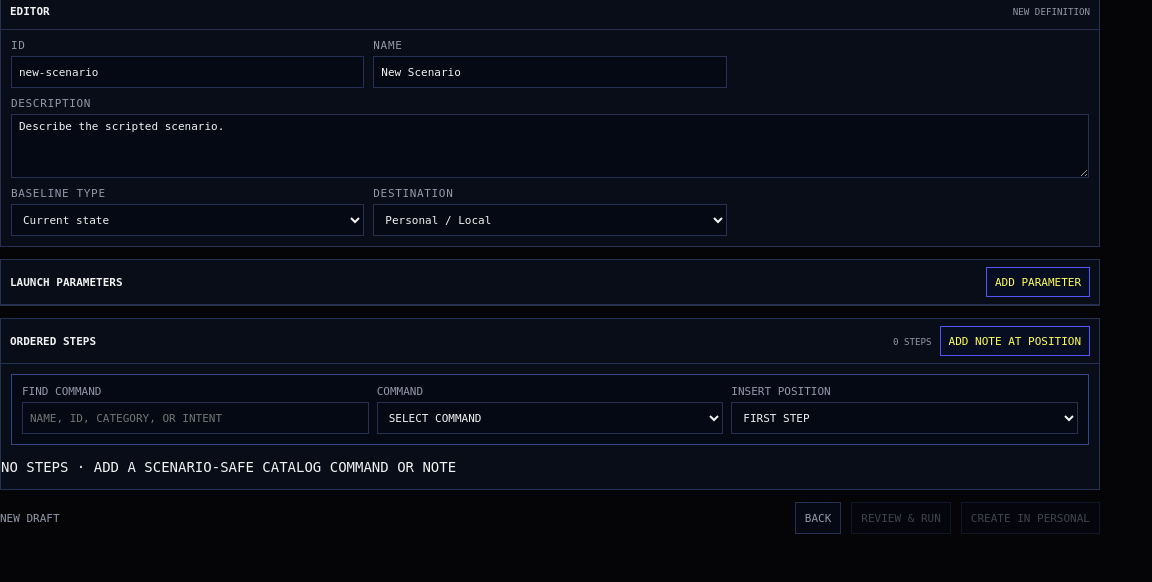
Test: Scenarios workspace › requires explicit generic targets before character and loadout steps enter the definition
Step 1. Select "Character Alteration · party.character.update" in the dropdown labelled "COMMAND" → (550, 418), box [377, 402, 723, 434]
(page scrolled)
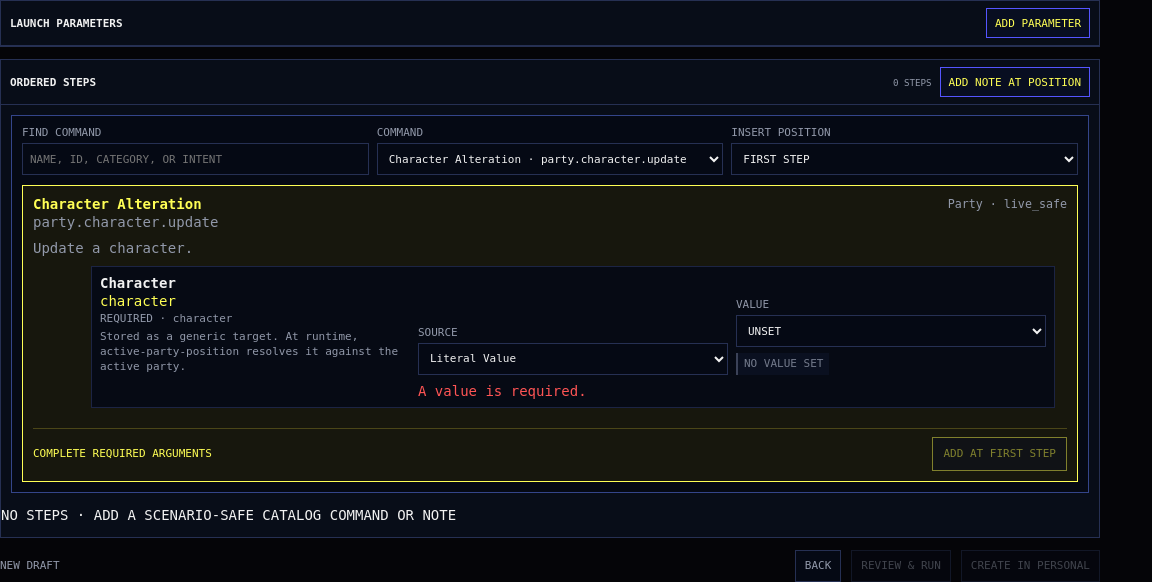
Now the button "ADD AT FIRST STEP" is disabled, box [932, 437, 1067, 471]
Now the element that starts with "Character Alteration" shows "COMPLETE REQUIRED ARGUMENTS", box [33, 447, 212, 460]
Step 2. Select "Party Position 2" in the dropdown named "Literal value for character" → (891, 332), box [736, 316, 1046, 348]
(page scrolled)
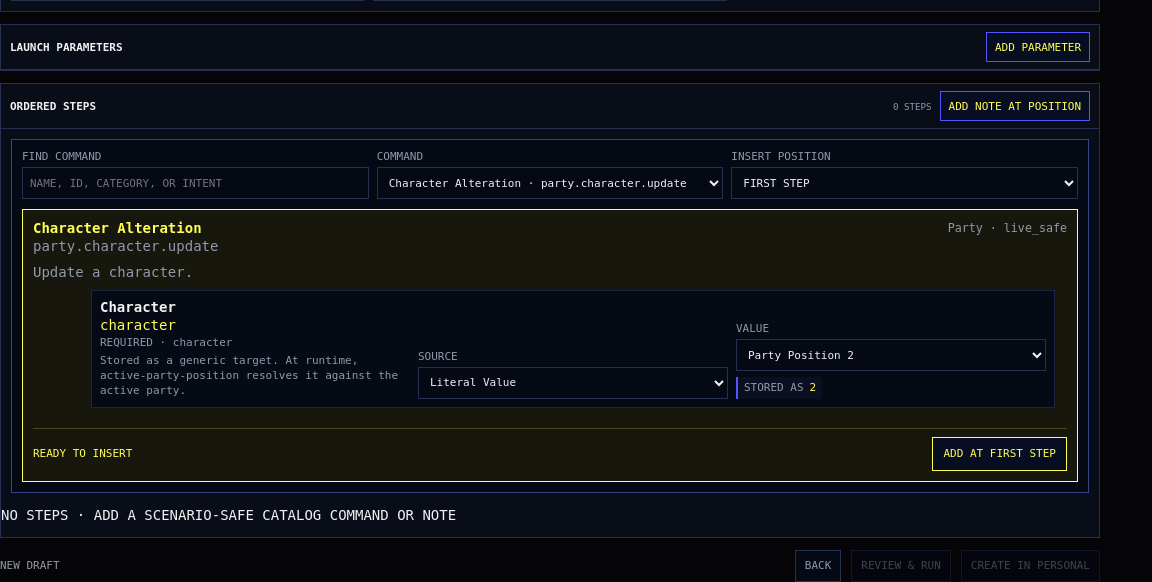
Step 3. Click the button "ADD AT FIRST STEP" → (1000, 454), box [932, 437, 1067, 471]
(page scrolled)
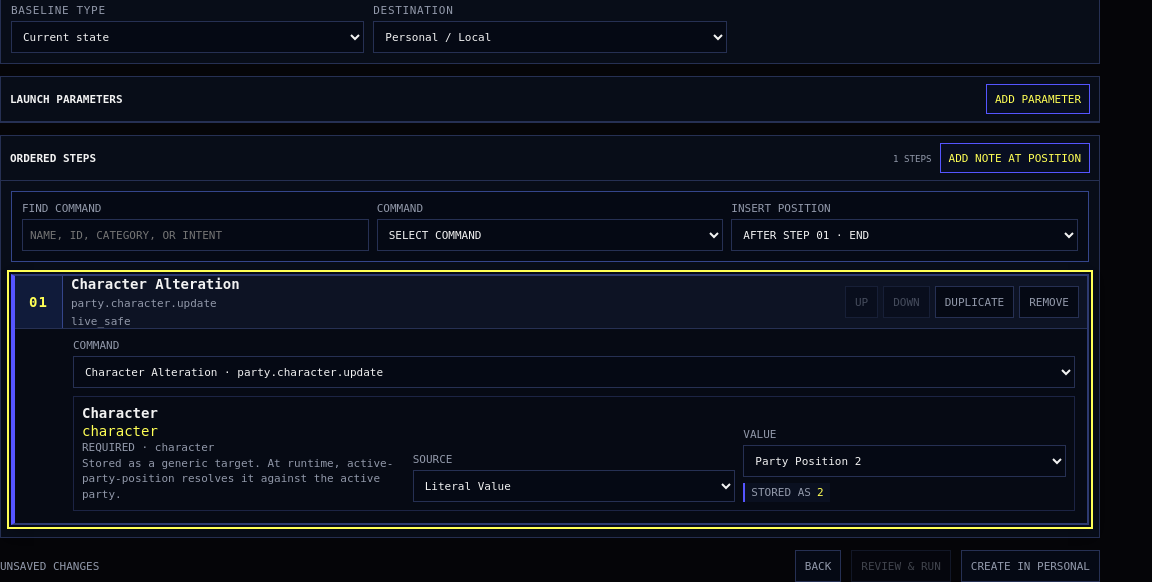
Now the text "resolves it against the active party" is shown, box [82, 457, 393, 501]
Step 4. Select "Character Loadout · party.equipment.loadout.update" in the dropdown labelled "COMMAND" below "INSERT POSITION" → (550, 235), box [377, 219, 723, 251]
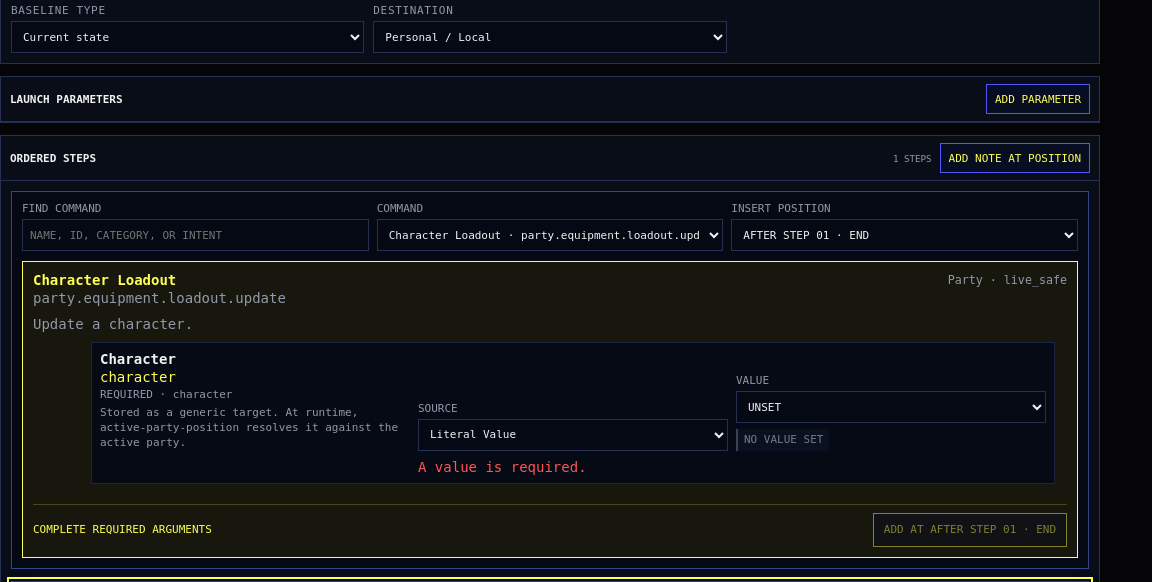
Now the button "ADD AT AFTER STEP 01 · END" is disabled, box [873, 513, 1067, 547]
